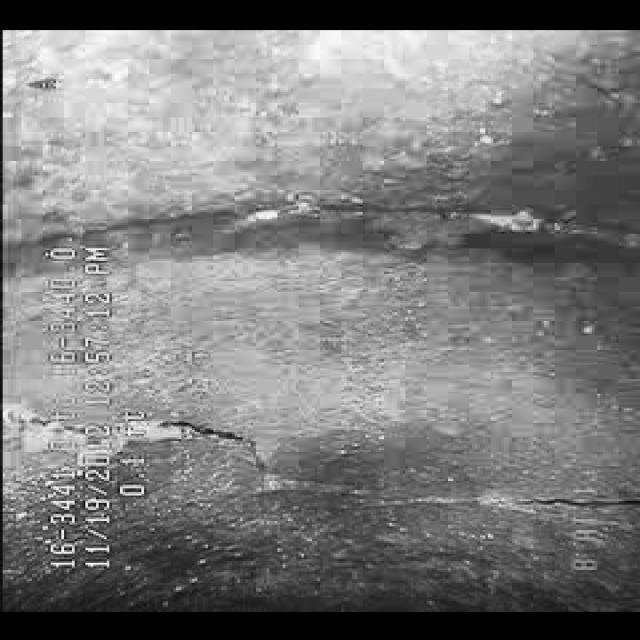Crack: (177, 403, 540, 533)
